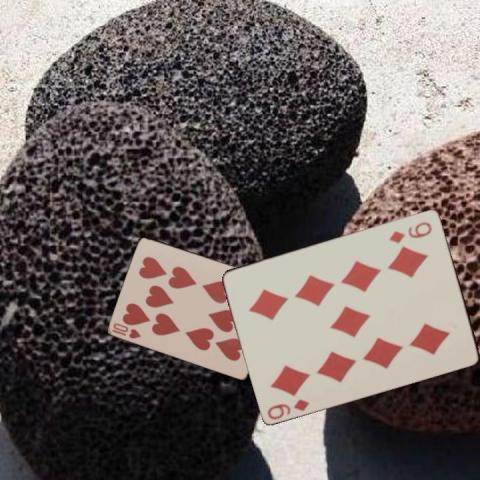10h: (109, 320, 143, 340)
9d: (385, 218, 434, 245), (264, 395, 311, 421)
